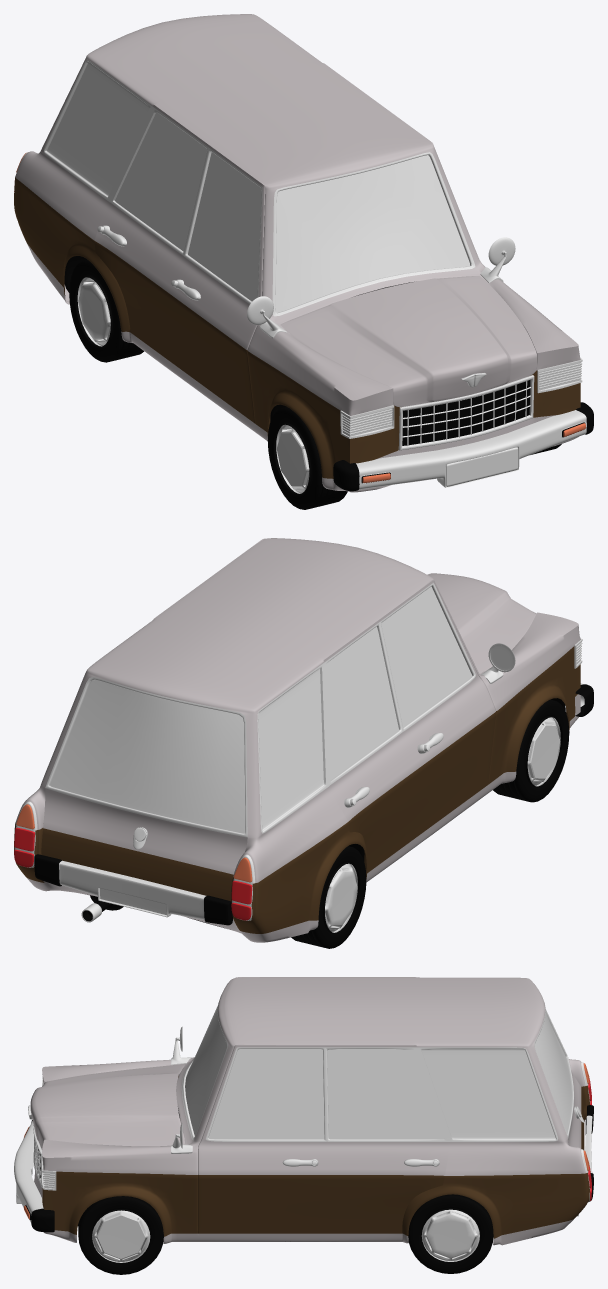
File: Car.fbx
3 renders of one model, top to bottom at view 1: azimuth 30°, elevation 25°; view 2: azimuth 150°, elevation 25°; view 3: azimuth 270°, elevation 25°, orthographic. The views are drawn at different scales.
Parts seen in each view (by area): view 1: chasis, motor, front door, back door, f. bumper, wheel 1, wheel 1.001, radiadotr, glass light, mirror, matricula, ext light; view 2: chasis, door.001, front door, back door, motor, bumper, wheel 1, wheel 1.001, backlihght, mirror, matricula.001; view 3: chasis, front door, back door, motor, wheel 1, wheel 1.001, door.001, f. bumper, mirror, bumper.
Boxes of the visible parts, box(x1,y1,x2,y2) form: chasis: box(14, 14, 580, 492); motor: box(280, 276, 536, 406); front door: box(168, 129, 433, 423); back door: box(94, 63, 324, 364); f. bumper: box(333, 402, 593, 491); wheel 1: box(267, 407, 561, 509); wheel 1.001: box(69, 259, 143, 362); radiadotr: box(402, 381, 530, 446); glass light: box(342, 362, 582, 436); mirror: box(247, 237, 515, 338); matricula: box(446, 447, 518, 486); ext light: box(340, 357, 582, 438); chasis: box(14, 538, 580, 942); door.001: box(41, 677, 247, 900); front door: box(241, 538, 495, 842); back door: box(154, 617, 417, 872); motor: box(427, 573, 536, 673); bumper: box(34, 854, 232, 925); wheel 1: box(493, 699, 569, 802); wheel 1.001: box(291, 846, 366, 948); backlihght: box(14, 804, 252, 920); mirror: box(481, 643, 515, 683); matricula.001: box(100, 888, 166, 915); chasis: box(33, 977, 590, 1245); front door: box(198, 977, 329, 1233); back door: box(325, 977, 448, 1233); motor: box(30, 1064, 184, 1149); wheel 1: box(78, 1196, 163, 1274); wheel 1.001: box(408, 1194, 493, 1273); door.001: box(534, 1003, 584, 1150); f. bumper: box(14, 1120, 54, 1232); mirror: box(171, 1026, 192, 1153); bumper: box(585, 1105, 593, 1201).
Bounding box in the file's own units: 271 × 260 × 618.
